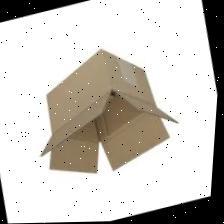cardboard: (3, 22, 210, 201)
